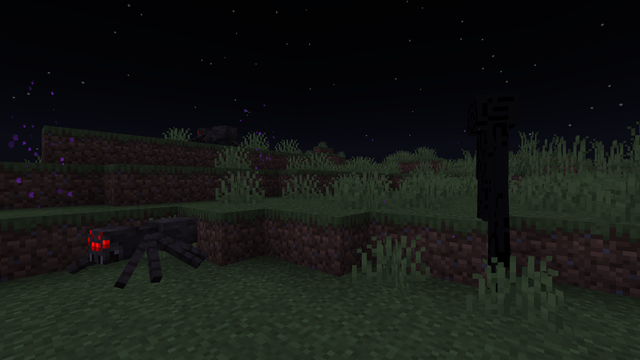araignees: (83, 212, 197, 291), (190, 121, 237, 144)
endermens: (463, 81, 517, 303)
